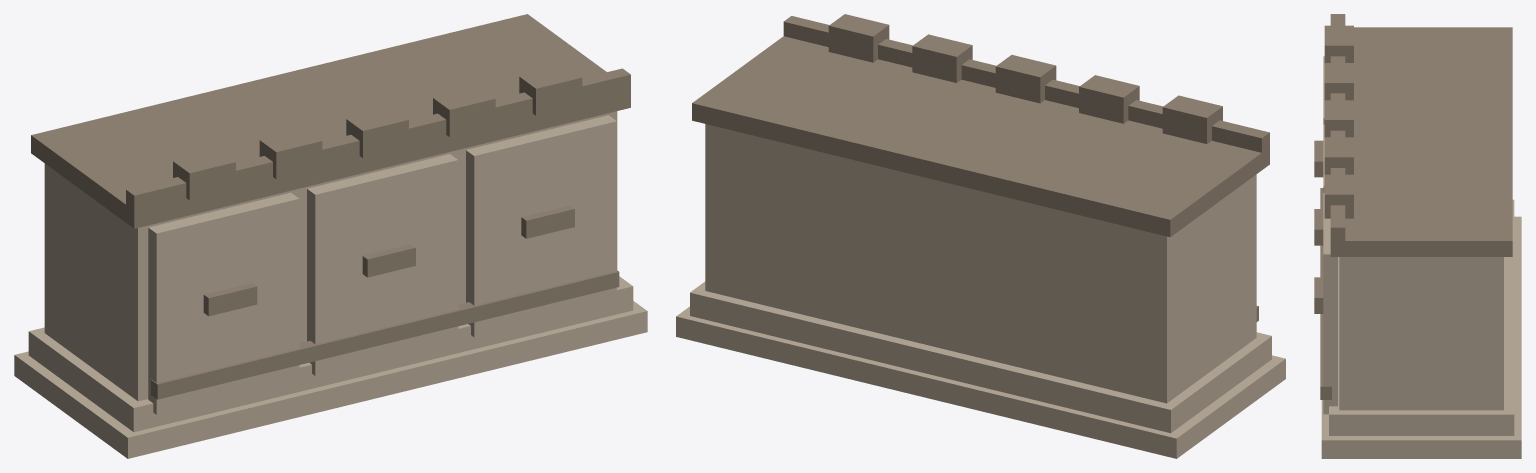
Rendered from fortress_tier.glb.
The picture shows the model from 3 angles, left to right: view 1: azimuth 30°, elevation 25°; view 2: azimuth 150°, elevation 25°; view 3: azimuth 270°, elevation 25°; orthographic projection. The views are drawn at different scales.
Visible parts, largest first — view 1: FortressTier, accent_FortressTier, chunk_4, chunk_5, chunk_6, accent_chunk_1, accent_chunk_3, accent_chunk_2, accent_chunk_4, accent_chunk_5, accent_chunk_6; view 2: FortressTier, accent_FortressTier, accent_chunk_1, accent_chunk_2; view 3: FortressTier, accent_FortressTier, accent_chunk_1, chunk_6, accent_chunk_2, accent_chunk_3, accent_chunk_4, accent_chunk_5, accent_chunk_6.
Boxes of the visible parts, x1,y1,x2,y2 form: FortressTier: [14, 111, 647, 458]; accent_FortressTier: [31, 14, 630, 228]; chunk_4: [148, 192, 299, 414]; chunk_5: [307, 154, 458, 375]; chunk_6: [466, 115, 616, 337]; accent_chunk_1: [173, 65, 582, 200]; accent_chunk_3: [151, 270, 619, 399]; accent_chunk_2: [126, 68, 630, 210]; accent_chunk_4: [203, 283, 257, 316]; accent_chunk_5: [362, 244, 415, 277]; accent_chunk_6: [521, 205, 574, 238]; FortressTier: [676, 124, 1285, 458]; accent_FortressTier: [692, 36, 1269, 237]; accent_chunk_1: [828, 14, 1222, 143]; accent_chunk_2: [783, 16, 1269, 152]; FortressTier: [1321, 199, 1521, 458]; accent_FortressTier: [1330, 27, 1512, 256]; accent_chunk_1: [1324, 25, 1353, 218]; chunk_6: [1323, 193, 1337, 414]; accent_chunk_2: [1330, 14, 1345, 240]; accent_chunk_3: [1320, 188, 1331, 399]; accent_chunk_4: [1314, 140, 1323, 177]; accent_chunk_5: [1314, 209, 1323, 245]; accent_chunk_6: [1314, 277, 1323, 313].
Size of the model in its own units: 1.8 by 0.89 by 0.705.
